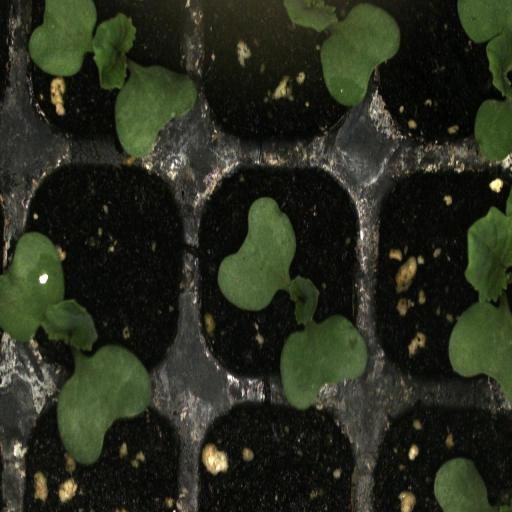Folha: (278, 0, 400, 108), (457, 0, 512, 164), (434, 457, 512, 512)
Germinacao: (4, 154, 194, 395), (194, 157, 367, 393), (367, 158, 512, 393), (16, 0, 194, 153)
